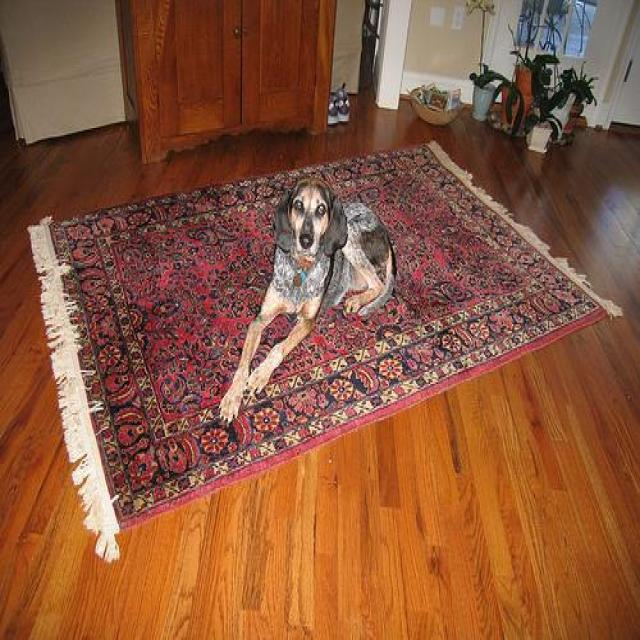adult_dog: (216, 177, 397, 426)
